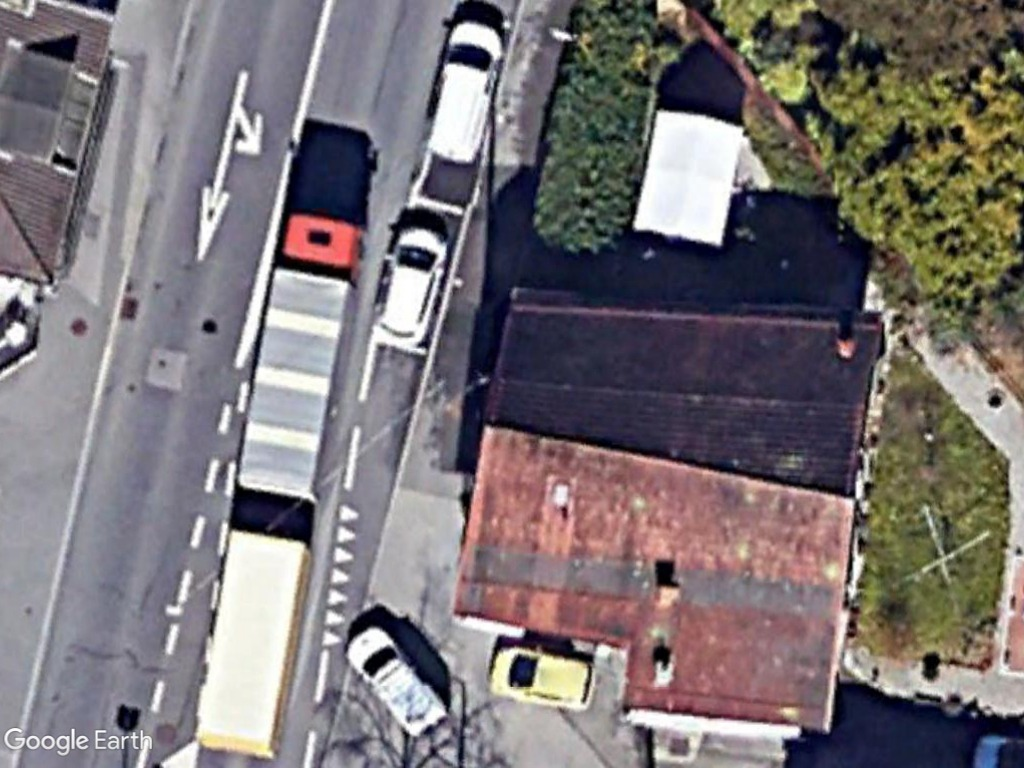car: (369, 214, 451, 355), (482, 643, 603, 715)
truck: (234, 207, 362, 507)
van: (422, 14, 510, 173), (346, 620, 449, 740)
